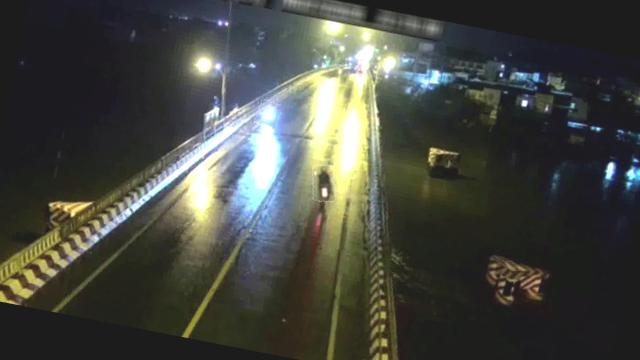Bike: (308, 162, 339, 203), (255, 99, 282, 129)
